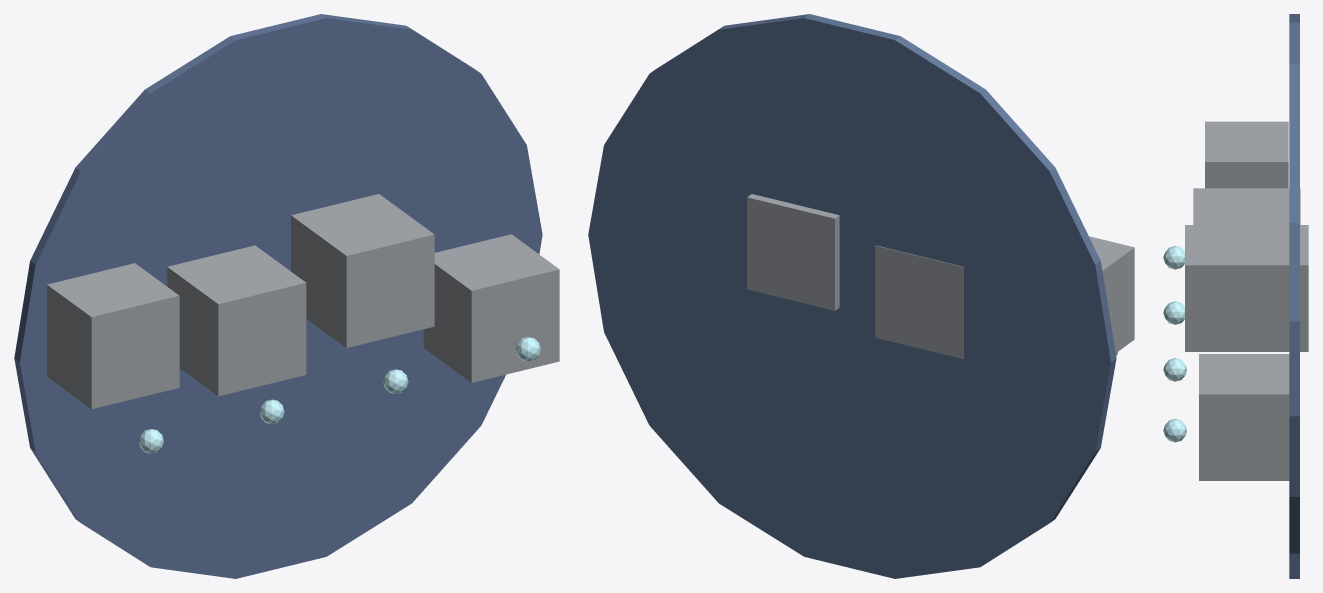
The model's file is 02_local_prop_cluster.glb.
3 views of the same model, side by side, from view 1: azimuth 30°, elevation 25°; view 2: azimuth 150°, elevation 25°; view 3: azimuth 270°, elevation 25° (orthographic). The views are drawn at different scales.
Parts seen in each view (by area): view 1: scatter_base, tech_crate_2, tech_crate_1, tech_crate_0, tech_crate_3; view 2: scatter_base, tech_crate_2, tech_crate_1, tech_crate_0; view 3: tech_crate_2, tech_crate_3, scatter_base, tech_crate_0, tech_crate_1, status_light_2, status_light_3, status_light_1, status_light_0.
Part boxes in pixels (x1,y1,x2,y2): scatter_base: (14,14,542,578); tech_crate_2: (291,194,434,347); tech_crate_1: (167,245,306,396); tech_crate_0: (47,263,179,409); tech_crate_3: (423,234,559,382); scatter_base: (588,14,1116,578); tech_crate_2: (747,194,839,310); tech_crate_1: (875,245,963,358); tech_crate_0: (1089,236,1134,352); tech_crate_2: (1185,225,1308,351); tech_crate_3: (1199,354,1289,480); scatter_base: (1289,14,1299,578); tech_crate_0: (1205,121,1288,188); tech_crate_1: (1193,188,1300,224); status_light_2: (1163,358,1186,381); status_light_3: (1163,418,1186,442); status_light_1: (1163,301,1184,324); status_light_0: (1163,246,1184,269).
Bounding box in the file's own units: 1.9 × 1.87 × 0.4871.
